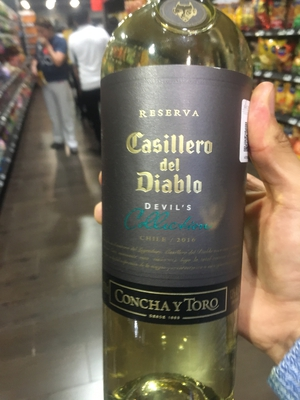casillero del diablo devils collection verde: (96, 20, 257, 388)
